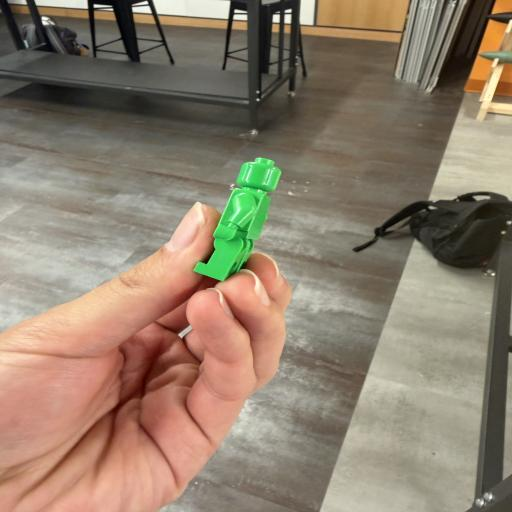Green-Lego: (194, 158, 281, 280)
